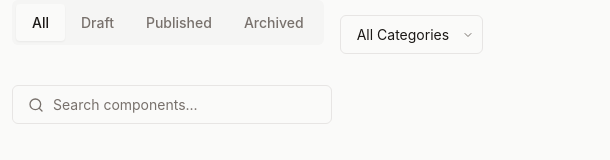
Scenario: ComponentFilters › Search Input with Debounce › shows clear search button when search has value
Note: Type something
Type "test" into the field with placeholder "Search components..." at (172, 104), box [12,85,332,124]
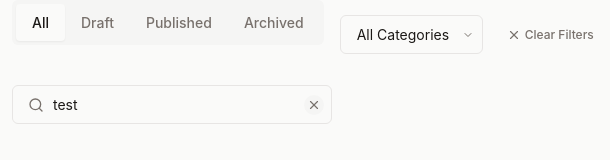
Expected: the button named "Clear search" is shown, [304,94,324,114]
